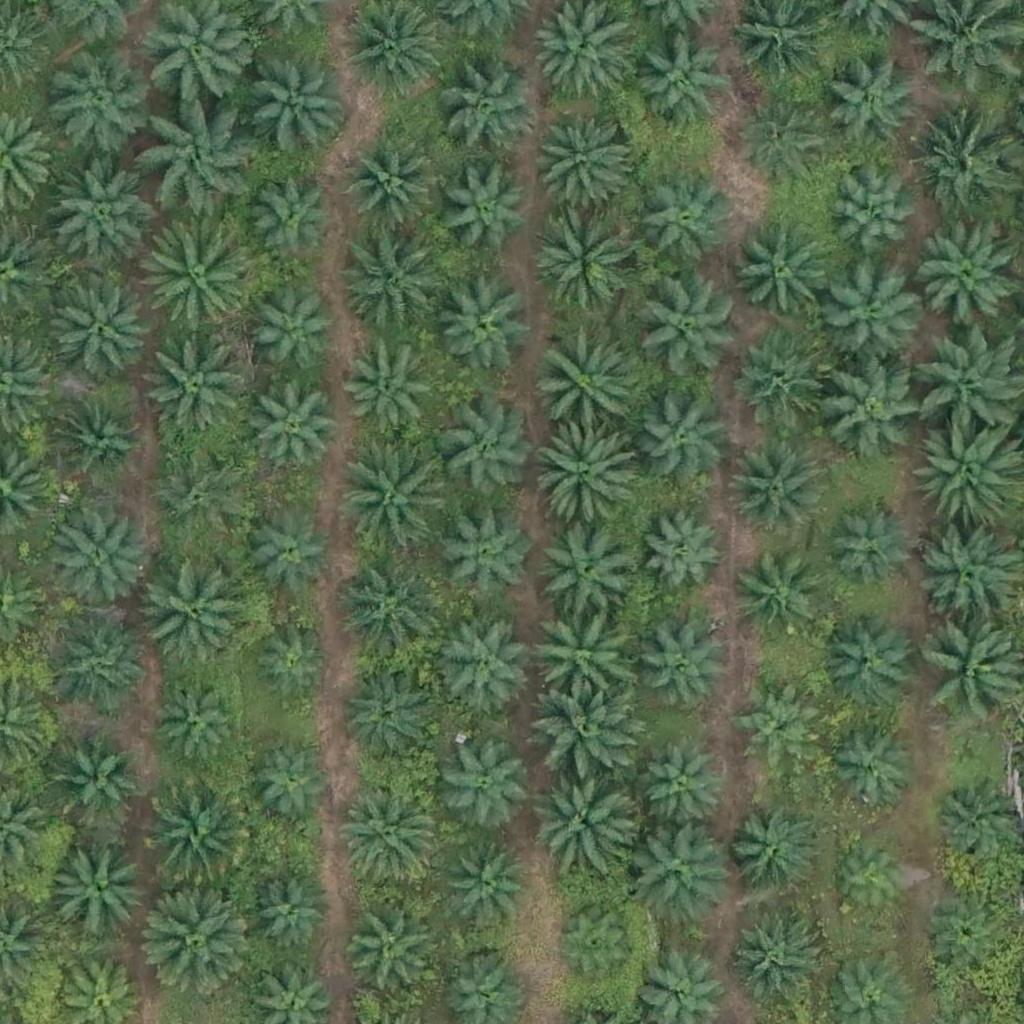Kelapa_Sawit: (137, 83, 262, 208), (43, 159, 156, 273), (633, 269, 746, 383), (43, 46, 156, 159), (144, 548, 257, 661), (339, 223, 452, 336), (338, 445, 451, 558), (46, 500, 159, 613), (143, 781, 255, 894), (139, 880, 251, 993), (911, 419, 1023, 532), (532, 420, 644, 533), (141, 217, 253, 330), (135, 333, 247, 446), (244, 47, 344, 148), (532, 114, 632, 215), (630, 30, 730, 131), (732, 85, 832, 186), (821, 53, 921, 154), (912, 117, 1012, 218), (48, 839, 148, 940), (46, 619, 146, 720), (339, 562, 439, 663), (340, 779, 440, 880), (431, 613, 531, 714), (532, 613, 632, 714), (530, 766, 630, 867), (633, 822, 733, 923), (915, 221, 1015, 322), (822, 265, 922, 366), (733, 222, 833, 323), (540, 515, 640, 616), (434, 502, 534, 603), (438, 398, 538, 499), (433, 276, 533, 377), (340, 335, 440, 436), (54, 286, 154, 387), (341, 1, 441, 101), (436, 57, 536, 157), (630, 168, 730, 268), (537, 684, 637, 784), (816, 615, 916, 715), (823, 719, 923, 819), (917, 527, 1017, 627), (827, 364, 927, 464), (726, 439, 826, 539), (733, 331, 833, 431), (530, 212, 630, 312), (534, 327, 634, 427), (57, 733, 145, 822), (732, 811, 820, 900), (250, 172, 338, 260), (344, 136, 432, 224), (443, 167, 531, 255), (347, 679, 435, 767), (642, 746, 730, 834), (735, 554, 823, 642), (735, 681, 823, 769), (732, 917, 820, 1005), (928, 896, 1016, 984), (822, 507, 910, 595), (248, 506, 336, 594), (153, 454, 241, 542), (58, 389, 146, 477), (444, 836, 531, 925), (251, 380, 338, 469), (830, 177, 917, 265), (157, 676, 244, 764), (250, 619, 337, 707), (247, 740, 334, 828), (252, 870, 339, 958), (346, 908, 433, 996), (444, 746, 531, 834), (550, 905, 637, 993), (639, 625, 726, 713), (640, 397, 727, 485), (641, 505, 728, 593), (247, 291, 334, 379), (835, 844, 910, 920)
